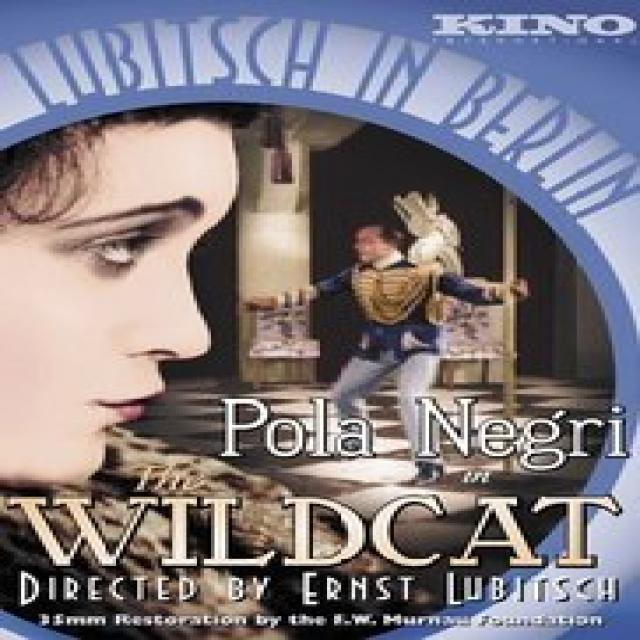movie-judul: (16, 398, 622, 613)
picture: (0, 108, 524, 514)
